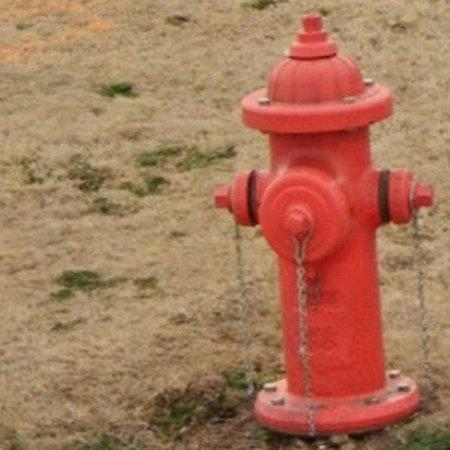a fire hydrant: (215, 13, 436, 436)
